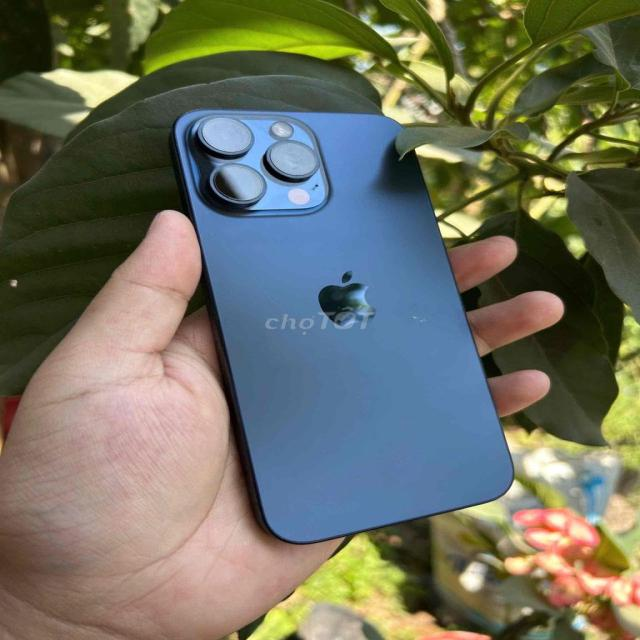scratch: (403, 308, 429, 325)
